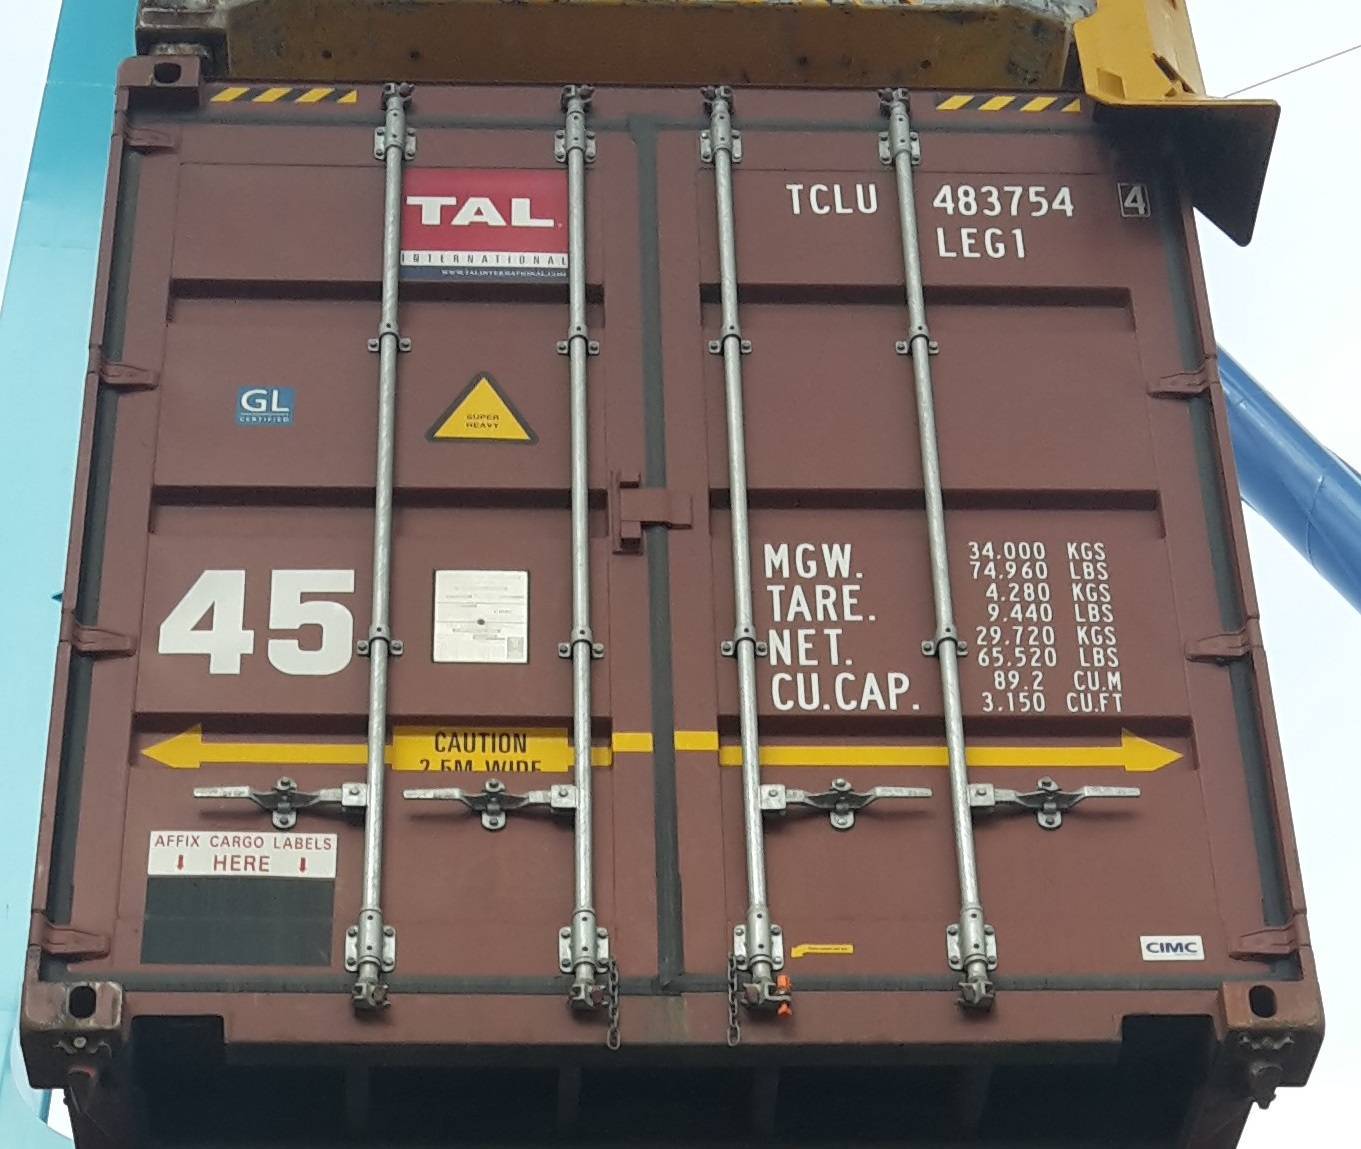container_door: (21, 97, 1329, 1032)
